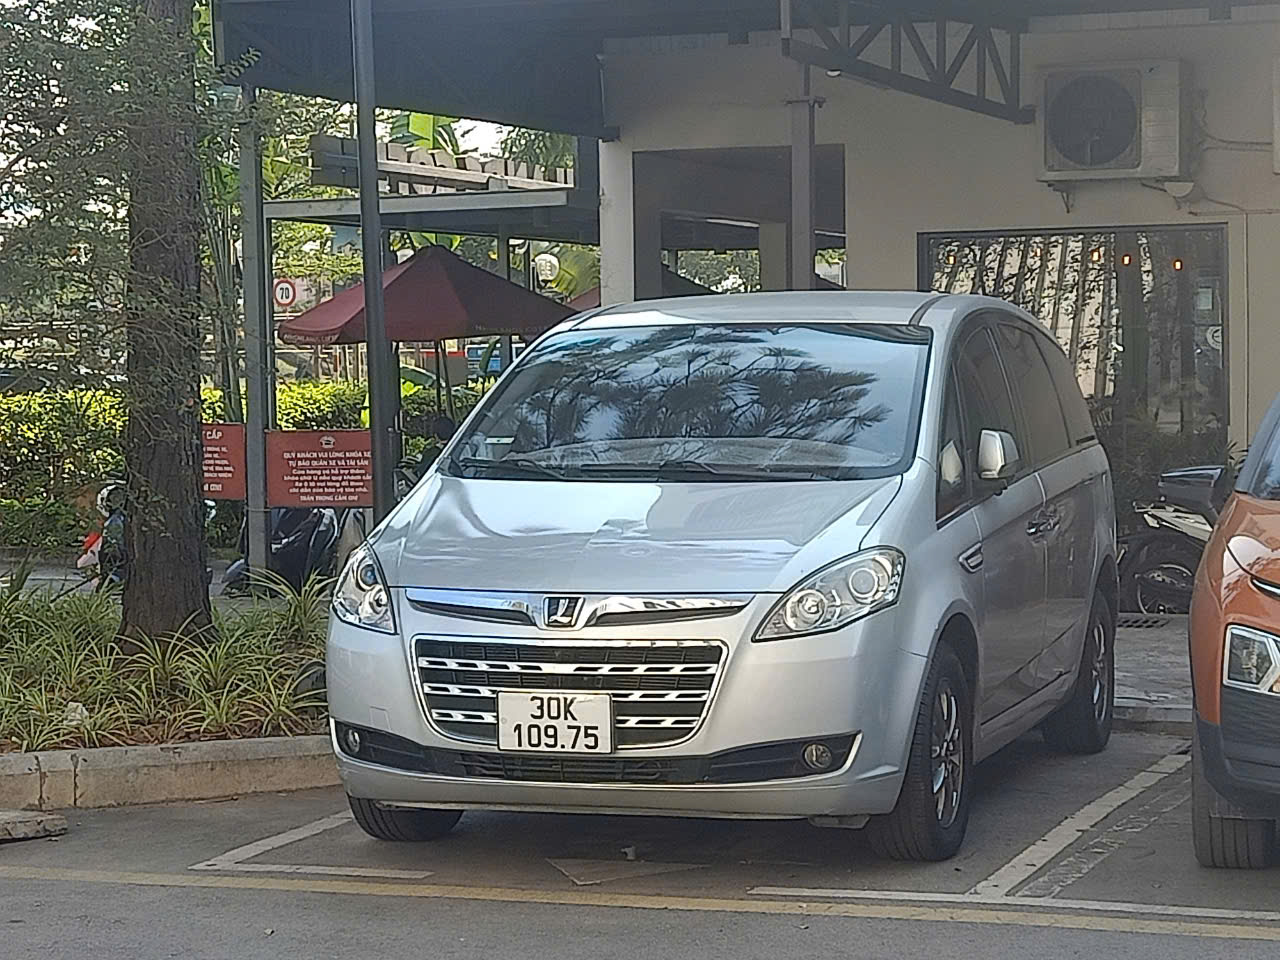bien_so: (497, 691, 614, 755)
